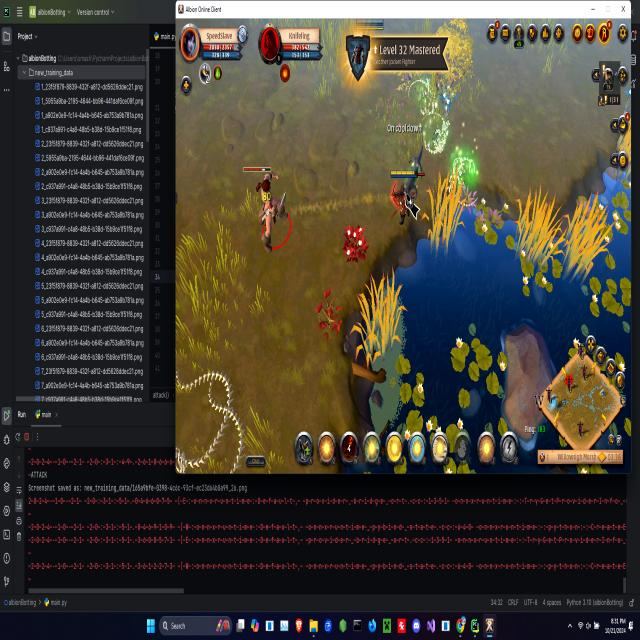hide: (340, 218, 372, 269), (437, 78, 461, 123)
ore: (239, 156, 294, 256), (400, 138, 426, 204)
red: (385, 167, 424, 227), (354, 16, 386, 35)
